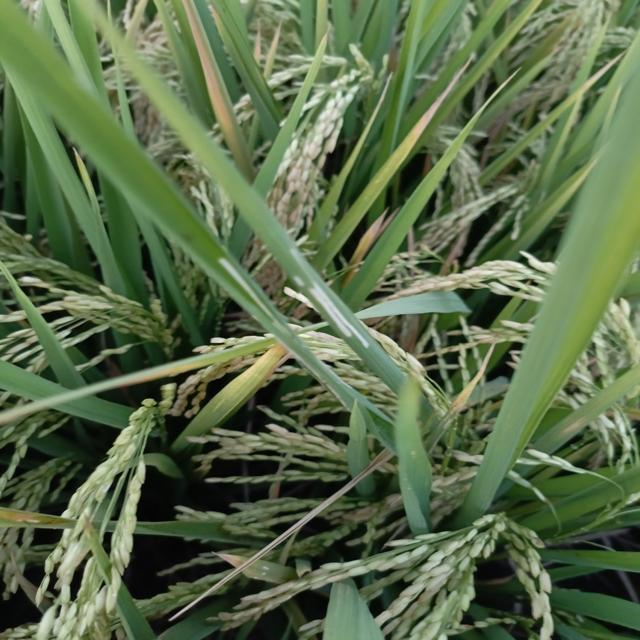brown plant hopper: (208, 243, 356, 417), (278, 240, 380, 358)
